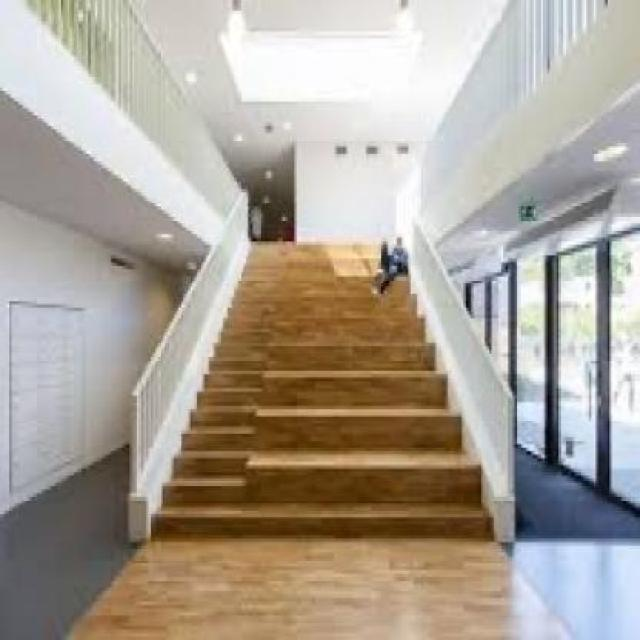stair: (155, 211, 496, 532)
